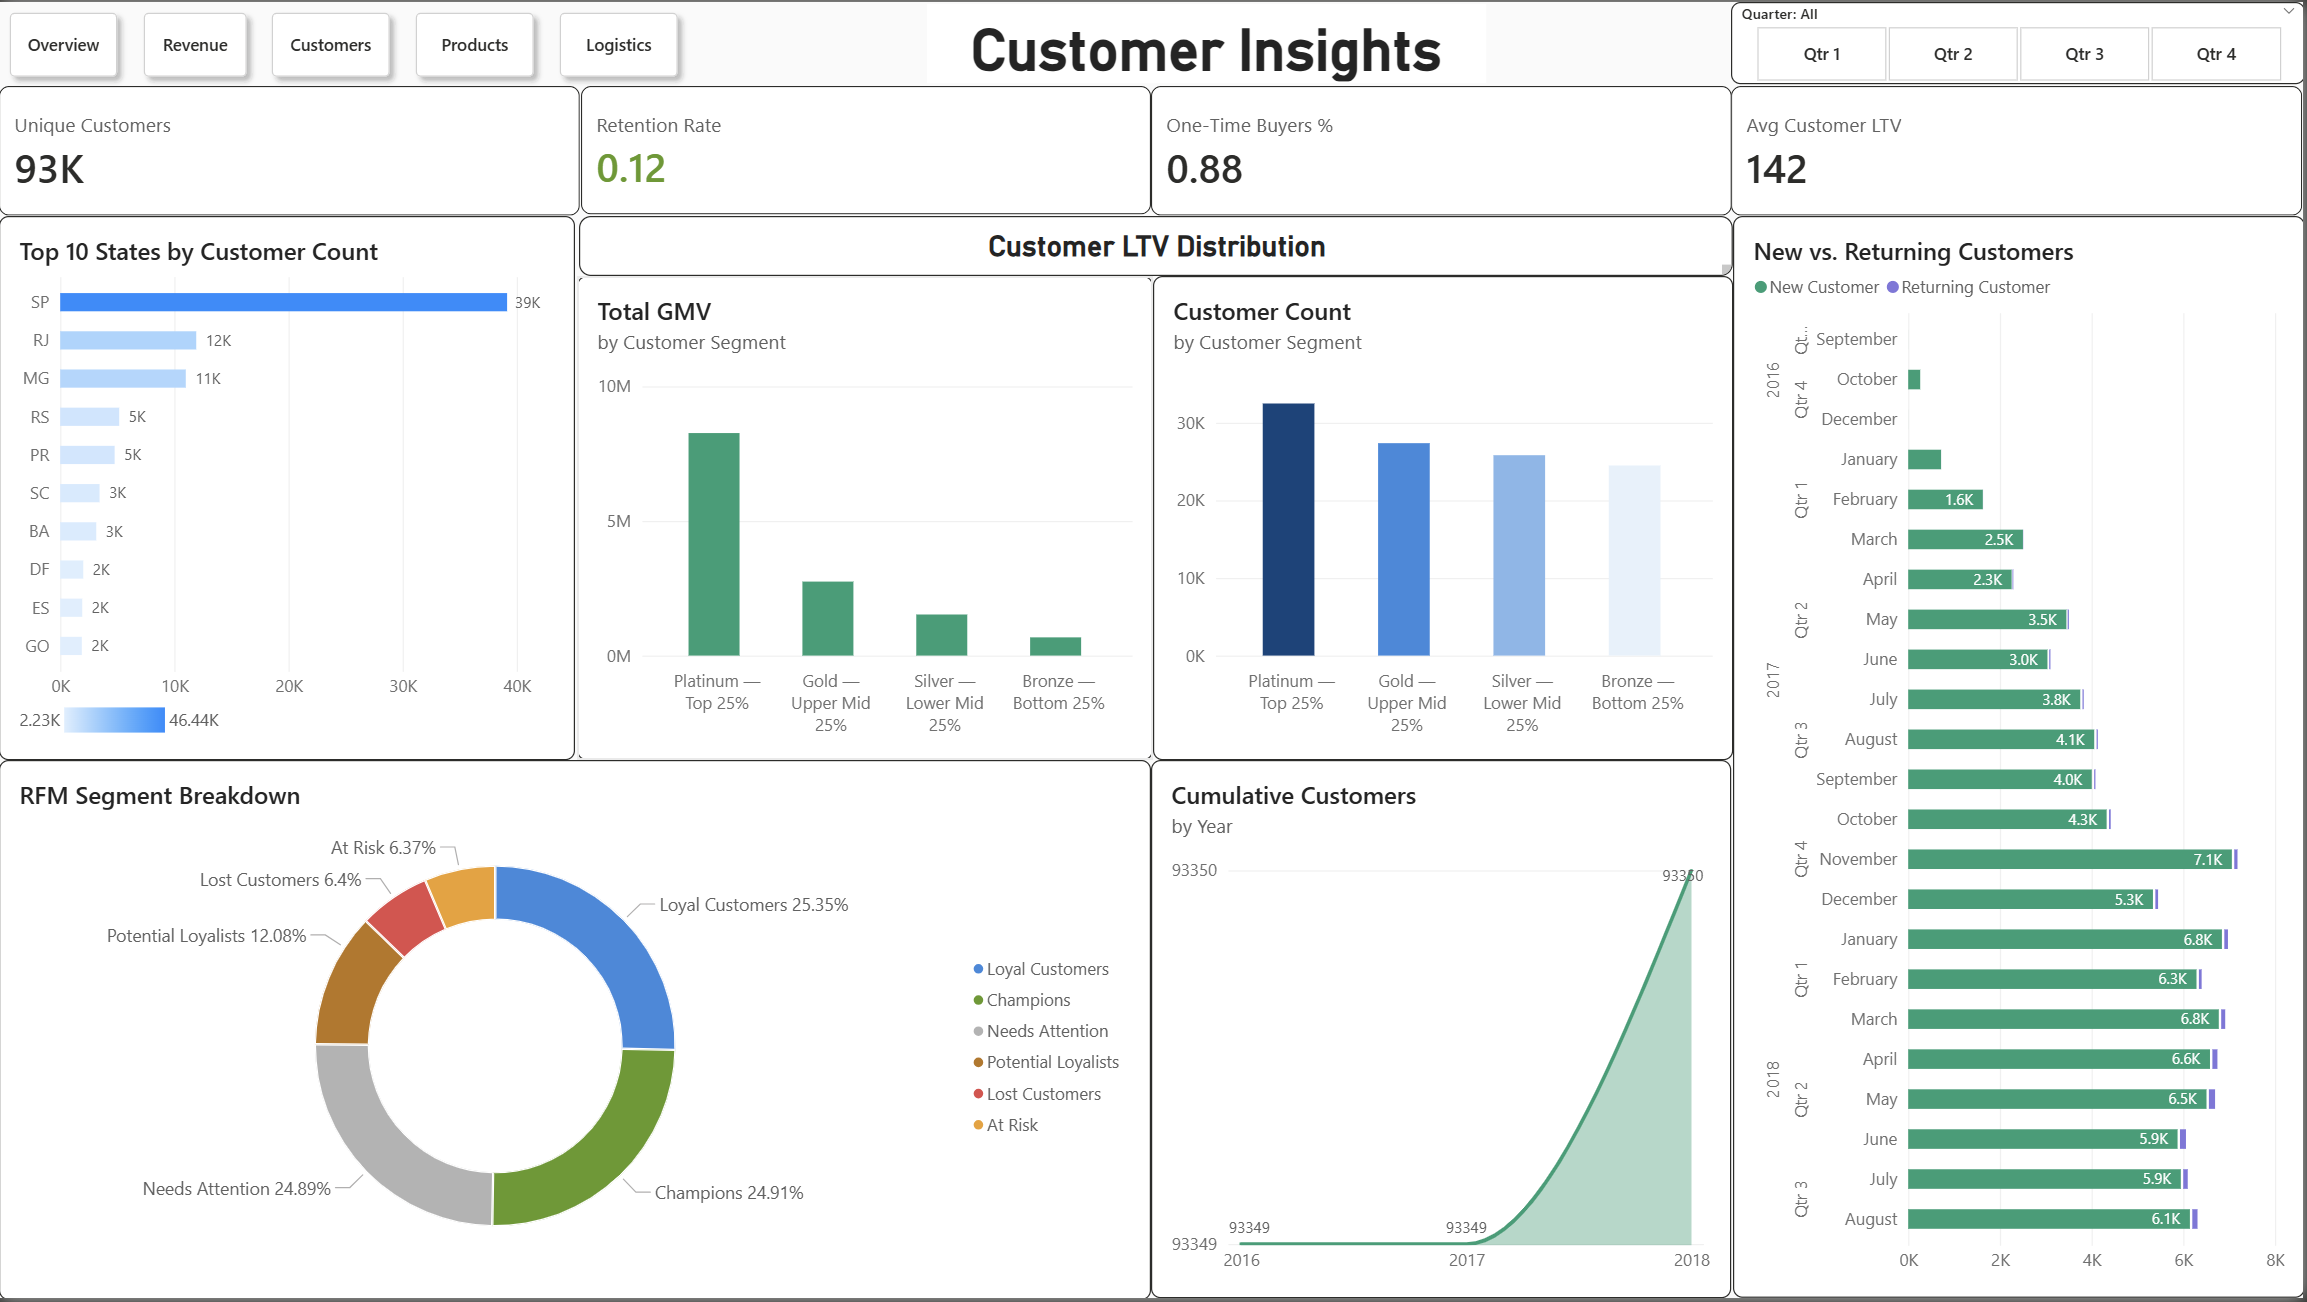

What the dashboard file says about the page in this screenshot:
{"tool":"powerbi","page":{"name":"Customer Insights","canvas":[1920,1080],"ordinal":2},"visuals":[{"type":"textbox","title":"Customer Insights","box":[772.6,2,466,66],"z":0},{"type":"actionButton","title":"Overview","box":[0,0.5,107.5,71.2],"z":1000,"group":"g1"},{"type":"cardVisual","fields":{"Data":["delivered_orders.Repeat Purchase Rate"]},"box":[484.4,70,475.6,107.8],"z":1000},{"type":"cardVisual","fields":{"Data":["delivered_orders.Unique Customers"]},"box":[0,70,484,108],"z":2000},{"type":"actionButton","title":"Overview","box":[110.9,0.5,103.8,71.2],"z":3000,"group":"g1"},{"type":"cardVisual","fields":{"Data":["rfm_customer_segments.Avg Customer LTV"]},"box":[1444,70,476,108],"z":3000},{"type":"cardVisual","fields":{"Data":["rfm_customer_segments.One-Time Buyers %"]},"box":[960,70,484,108],"z":4000},{"type":"actionButton","title":"Overview","box":[218.1,0.5,116.2,71.2],"z":5000,"group":"g1"},{"type":"donutChart","title":"RFM Segment Breakdown","fields":{"Category":["rfm_customer_segments.rfm_segment"],"Y":["CountNonNull(rfm_customer_segments.customer_unique_id)"]},"box":[0,631.7,960,450],"z":5000},{"type":"barChart","title":"New vs. Returning Customers","fields":{"Y":["DateTable.Unique Customers"],"Series":["delivered_orders.customer_type"],"Category":["delivered_orders.order_month_name.Variation.Date Hierarchy.Year","delivered_orders.order_month_name.Variation.Date Hierarchy.Quarter","delivered_orders.order_month_name.Variation.Date Hierarchy.Month","delivered_orders.order_month_name.Variation.Date Hierarchy.Day"]},"box":[1445,178.3,476.7,901.7],"z":6000},{"type":"actionButton","title":"Overview","box":[337.8,0.5,116.2,71.2],"z":7000,"group":"g1"},{"type":"clusteredColumnChart","fields":{"Category":["delivered_orders.customer_segment"],"Y":["CountNonNull(delivered_orders.customer_id)"]},"box":[961.7,228.3,483.3,403.3],"z":7000},{"type":"clusteredColumnChart","fields":{"Category":["delivered_orders.customer_segment"],"Y":["delivered_orders.Total GMV"]},"box":[481.7,228.3,480,403.3],"z":8000},{"type":"actionButton","title":"Overview","box":[457.5,0.5,116.2,71.2],"z":9000,"group":"g1"},{"type":"clusteredBarChart","title":"Top 10 States by Customer Count","fields":{"Category":["delivered_orders.customer_state"],"Y":["delivered_orders.Unique Customers"]},"box":[0,178.3,480,453.3],"z":9000},{"type":"areaChart","fields":{"Y":["delivered_orders.Cumulative Customers"],"Category":["DateTable.Date.Variation.Date Hierarchy.Year"]},"box":[960,631.7,483.3,448.3],"z":10000},{"type":"textbox","title":"Customer LTV Distribution","box":[483.3,178.3,961.7,50],"z":11000},{"type":"slicer","fields":{"Values":["delivered_orders.order_approved_at.Variation.Date Hierarchy.Quarter"]},"box":[1443.3,0,478.3,68.3],"z":12000},{"type":"group","id":"g1","title":"Group 1","box":[0,0.5,573.8,71.2],"z":13000}]}

Visuals, with their boxes in screenshot pixels (x1, y1, x2, y2), scaled from the page's 1920x1080 canvas onto the 2307x1302 screenshot:
"Customer Insights" textbox: <region>928, 2, 1488, 82</region>
"Overview" actionButton: <region>0, 1, 129, 86</region>
cardVisual - delivered_orders.Repeat Purchase Rate: <region>582, 84, 1154, 214</region>
cardVisual - delivered_orders.Unique Customers: <region>0, 84, 582, 215</region>
"Overview" actionButton: <region>133, 1, 258, 86</region>
cardVisual - rfm_customer_segments.Avg Customer LTV: <region>1735, 84, 2306, 215</region>
cardVisual - rfm_customer_segments.One-Time Buyers %: <region>1154, 84, 1735, 215</region>
"Overview" actionButton: <region>262, 1, 402, 86</region>
"RFM Segment Breakdown" donutChart: <region>0, 762, 1154, 1301</region>
"New vs. Returning Customers" barChart: <region>1736, 215, 2306, 1301</region>
"Overview" actionButton: <region>406, 1, 546, 86</region>
clusteredColumnChart - delivered_orders.customer_segment x CountNonNull(delivered_orders.customer_id): <region>1156, 275, 1736, 761</region>
clusteredColumnChart - delivered_orders.customer_segment x delivered_orders.Total GMV: <region>579, 275, 1156, 761</region>
"Overview" actionButton: <region>550, 1, 689, 86</region>
"Top 10 States by Customer Count" clusteredBarChart: <region>0, 215, 577, 761</region>
areaChart - delivered_orders.Cumulative Customers x DateTable.Date.Variation.Date Hierarchy.Year: <region>1154, 762, 1734, 1301</region>
"Customer LTV Distribution" textbox: <region>581, 215, 1736, 275</region>
slicer - delivered_orders.order_approved_at.Variation.Date Hierarchy.Quarter: <region>1734, 0, 2306, 82</region>
"Group 1" group: <region>0, 1, 689, 86</region>
